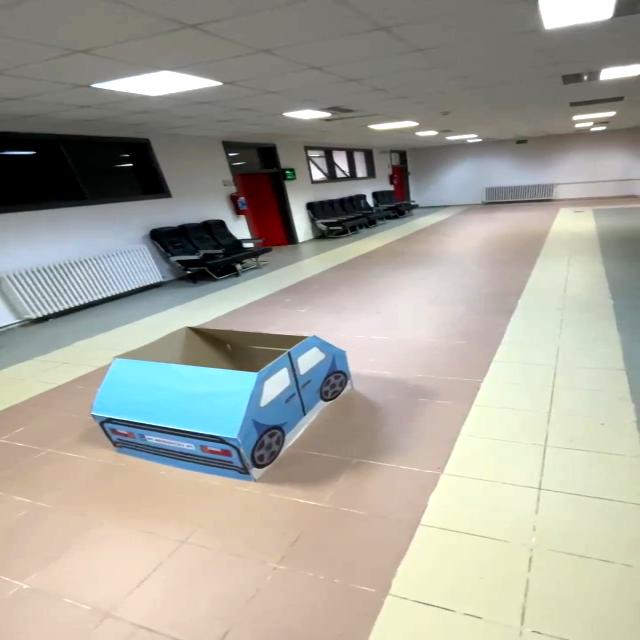blue_car: (57, 310, 365, 490)
